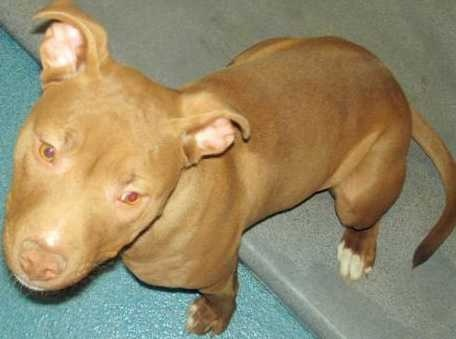dog: (0, 0, 443, 305)
